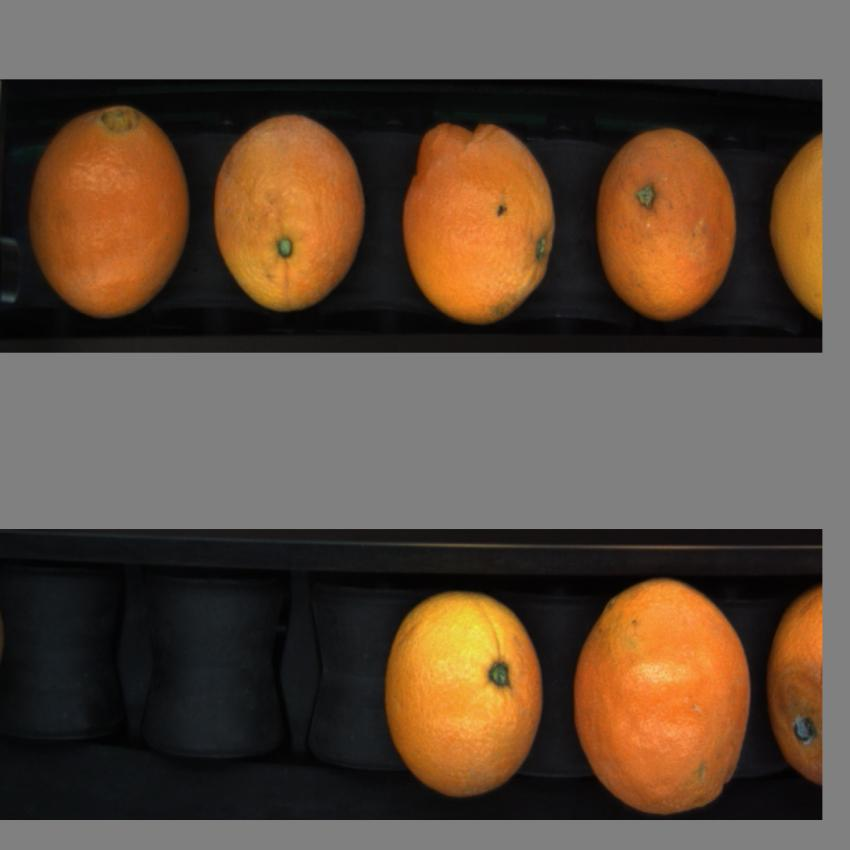Buen estado: (566, 568, 754, 818), (377, 577, 553, 810), (396, 116, 570, 322), (590, 116, 750, 325), (209, 109, 372, 310), (766, 112, 824, 334)
Mal estado: (24, 97, 194, 321), (762, 566, 822, 798)
